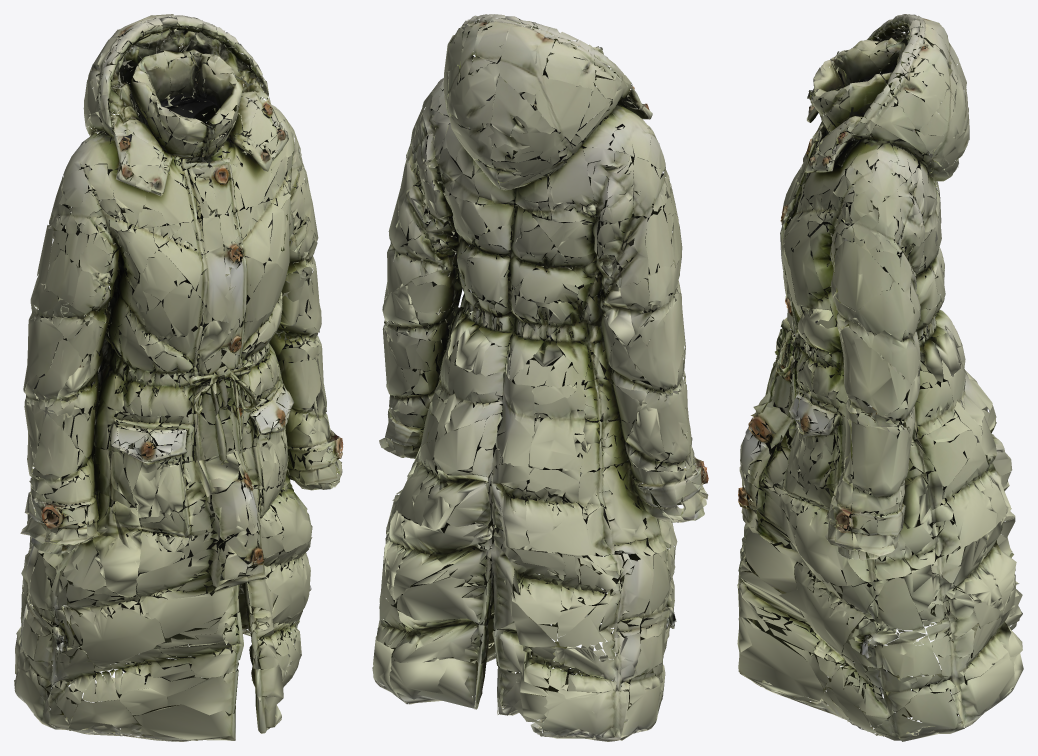
The model's file is parka.glb.
The picture shows the model from 3 angles, left to right: view 1: azimuth 30°, elevation 25°; view 2: azimuth 150°, elevation 25°; view 3: azimuth 270°, elevation 25°; orthographic projection. The views are drawn at different scales.
Visible parts, largest first — view 1: parka; view 2: parka; view 3: parka.
Part boxes in pixels (box(x1,y1,x2,y2)): parka: box(14, 14, 343, 741); parka: box(372, 14, 708, 741); parka: box(737, 14, 1023, 741).
Bounding box in the file's own units: 0.5619 × 1.16 × 0.4563.
1 material, 1 textured.
